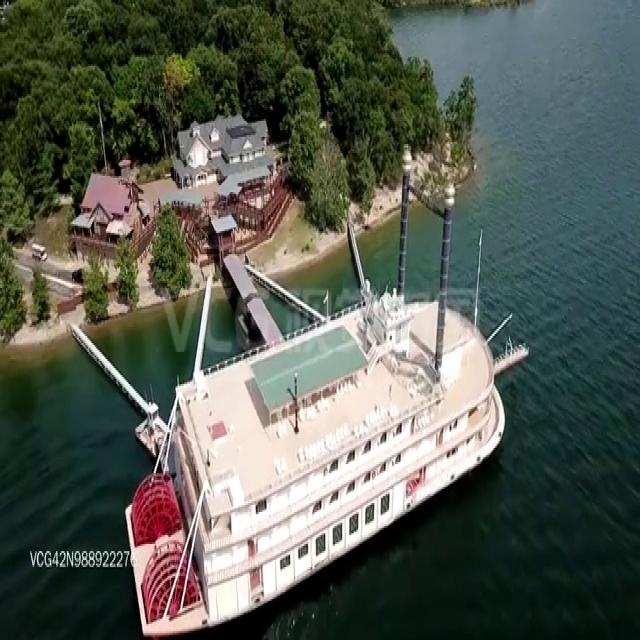passenger ship: (121, 290, 504, 640)
